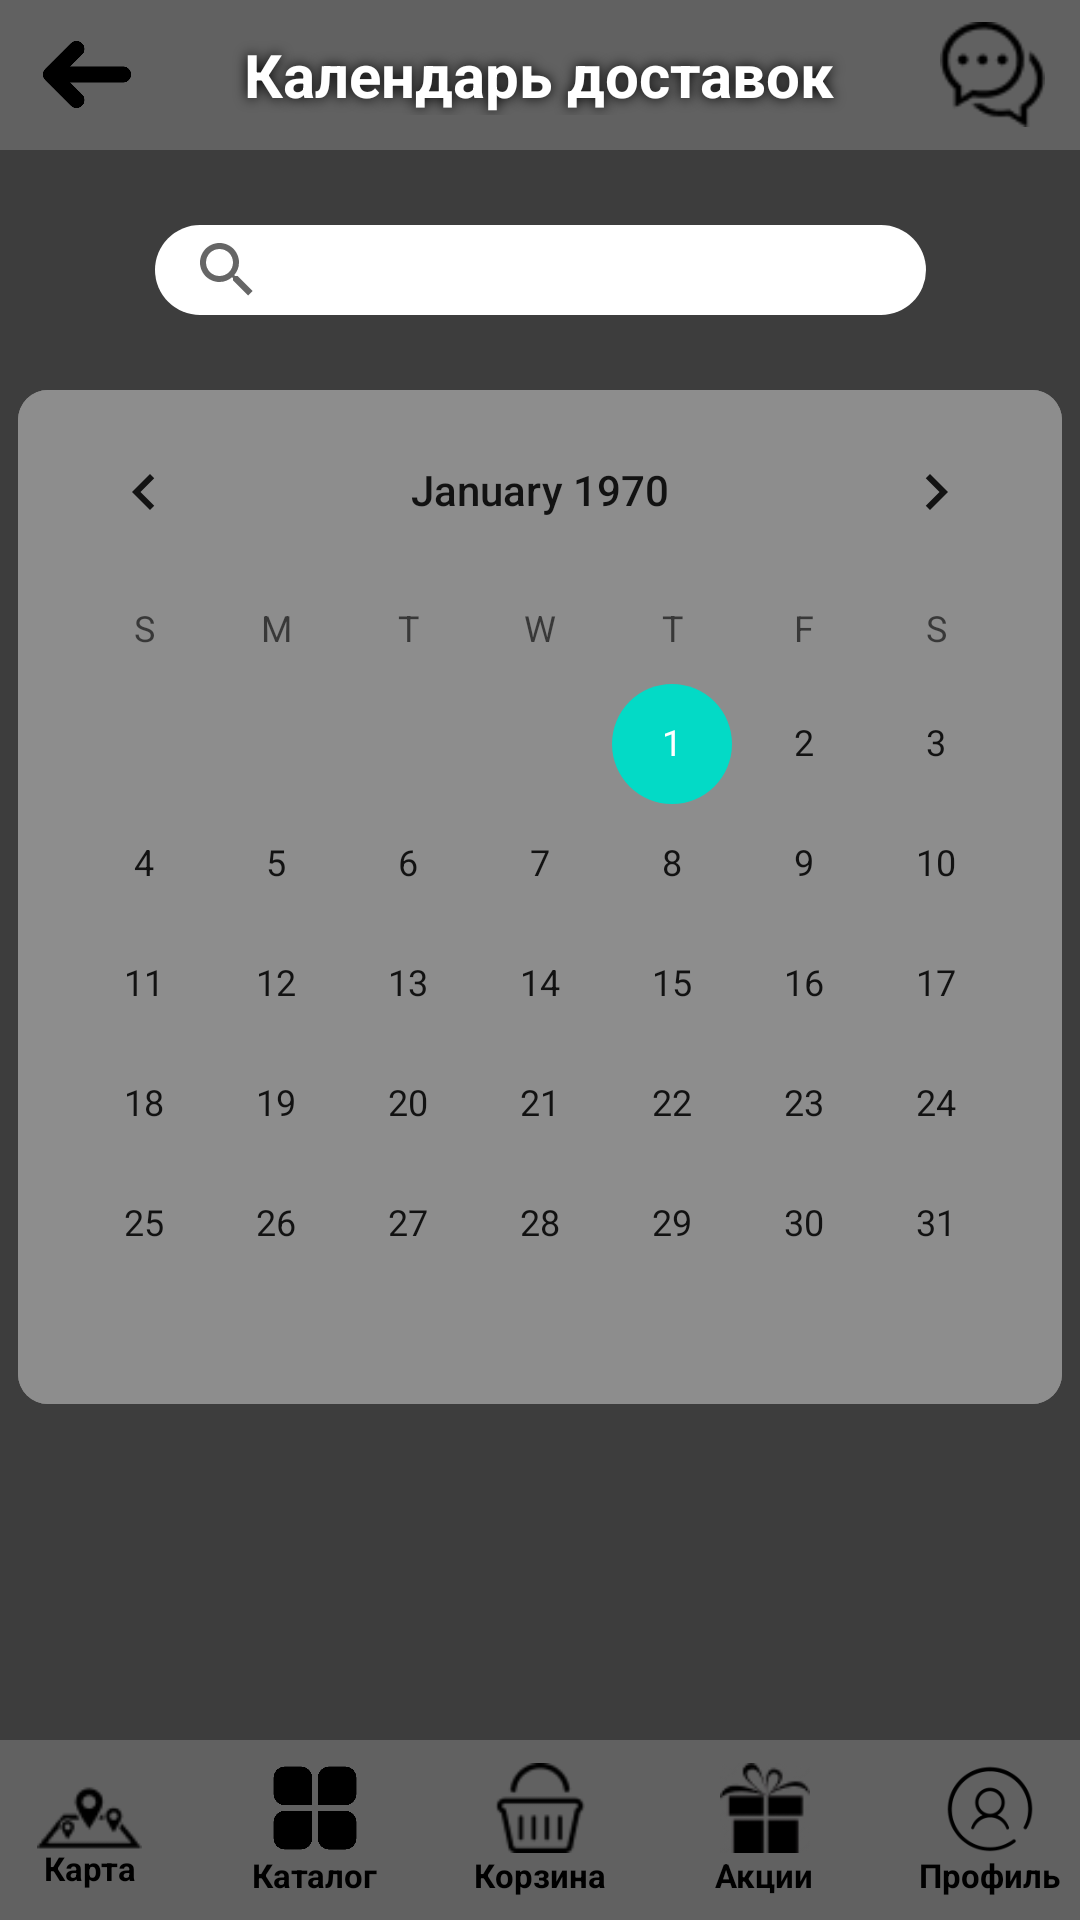

Where to tap for icons on this 1080x1920 app screen, as point (x, y):
chat: point (992, 74)
